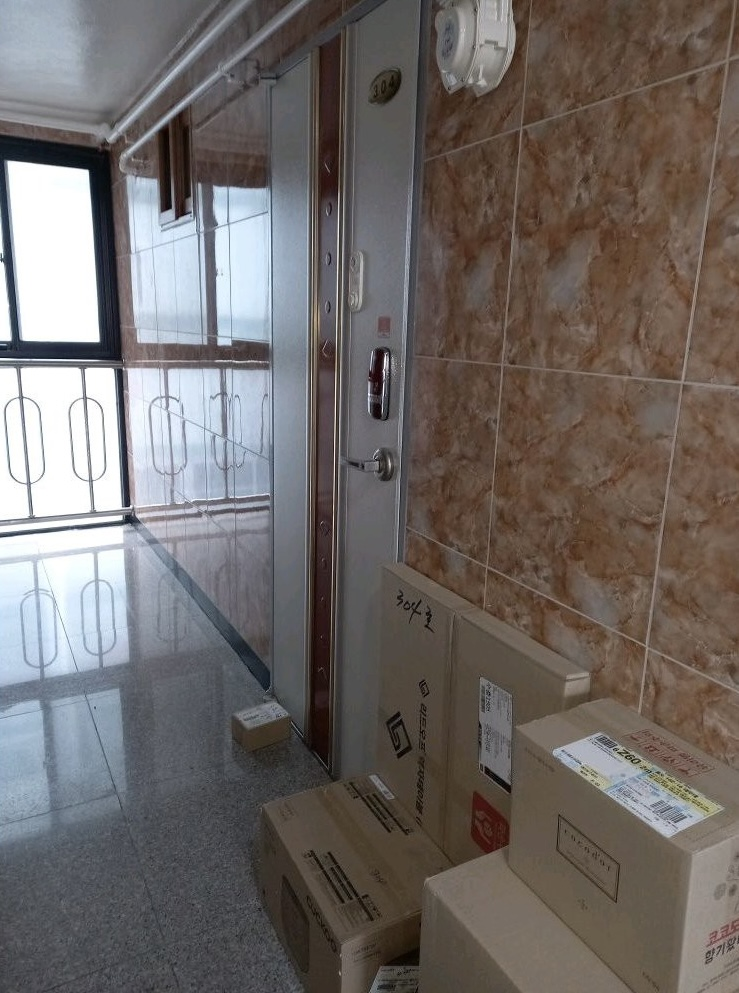undamaged: (252, 569, 738, 992), (226, 691, 293, 763)
